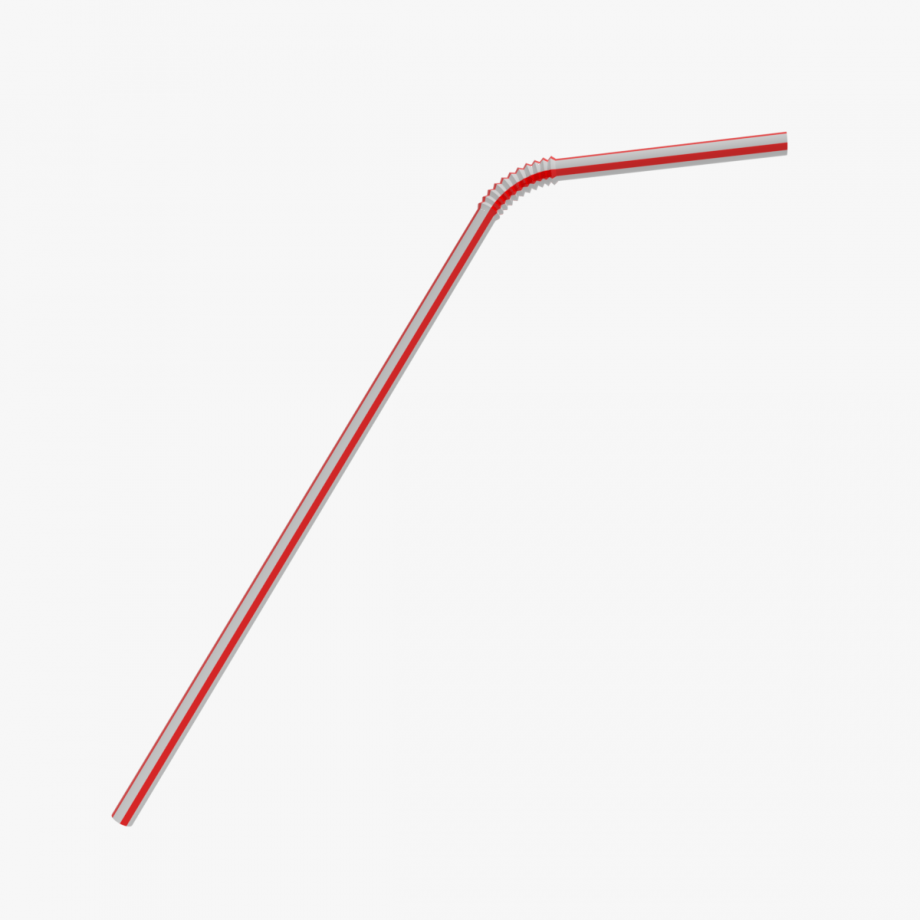Drinking Straw: (108, 127, 792, 830)
